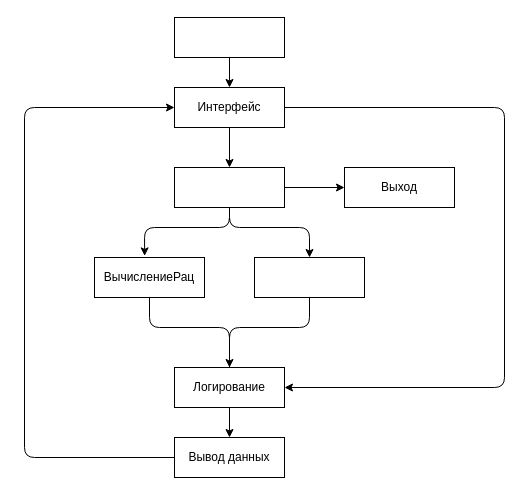
The diagram is 530 pixels wide and 495 high, and some of its shapes have lost their labels. The shapes that lost their labels are listed below. From the top down, each one's box as (x1, y1, x2, y2) in pixels, then its label:
(174, 16, 284, 58): Старт
(174, 166, 284, 208): Ввод
(254, 256, 364, 298): ВычислениеКомп
